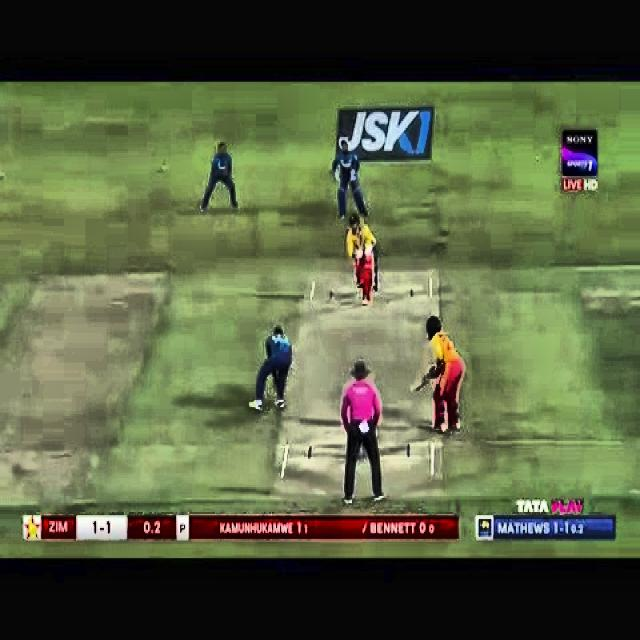Right-stump: (375, 257, 378, 289)
